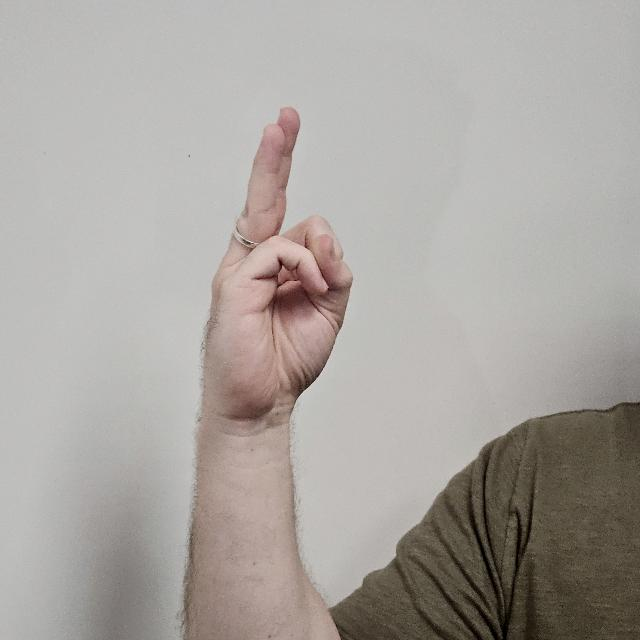R: (207, 104, 353, 462)
